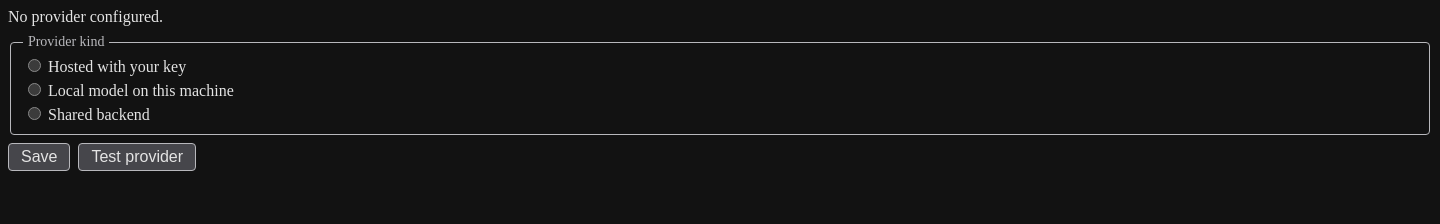
Test: kind first (10.1, 10.3) › offers the three kinds and requests credential entry only for keyed hosted
Check: the radio button labelled "Local model on this machine" is shown, box [28,83,41,96]
Check: the radio button labelled "Shared backend" is shown, box [28,107,41,120]
Click the radio button labelled "Hosted with your key". click: point(34, 65)
box: [28,59,41,72]
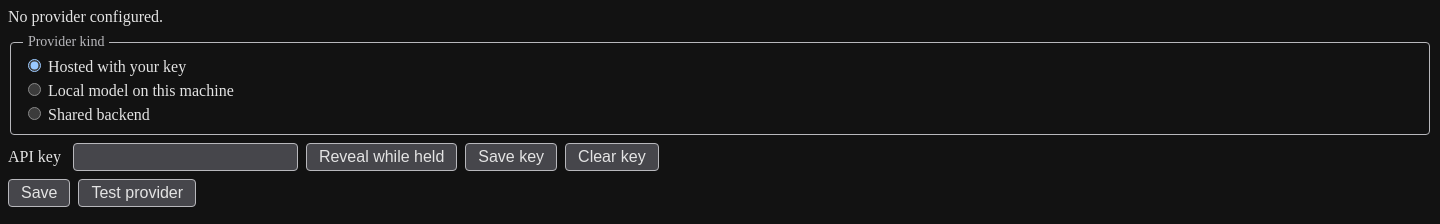
Check: the password field labelled "API key" is shown, box [73,143,298,171]
Click the radio button labelled "Local model on this machine". click: point(34, 89)
box: [28,83,41,96]
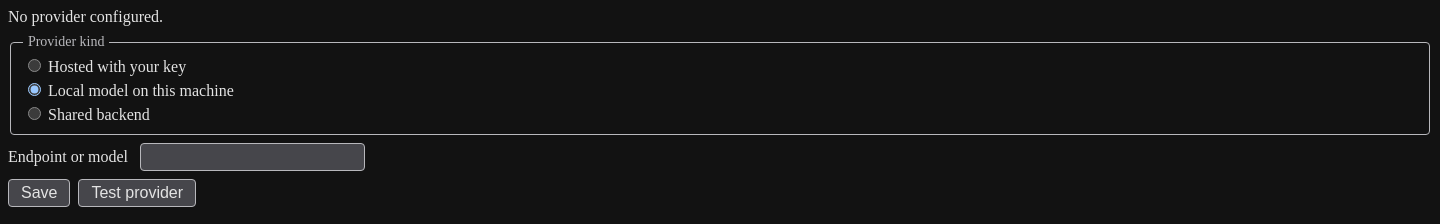
Check: the password field is gone
